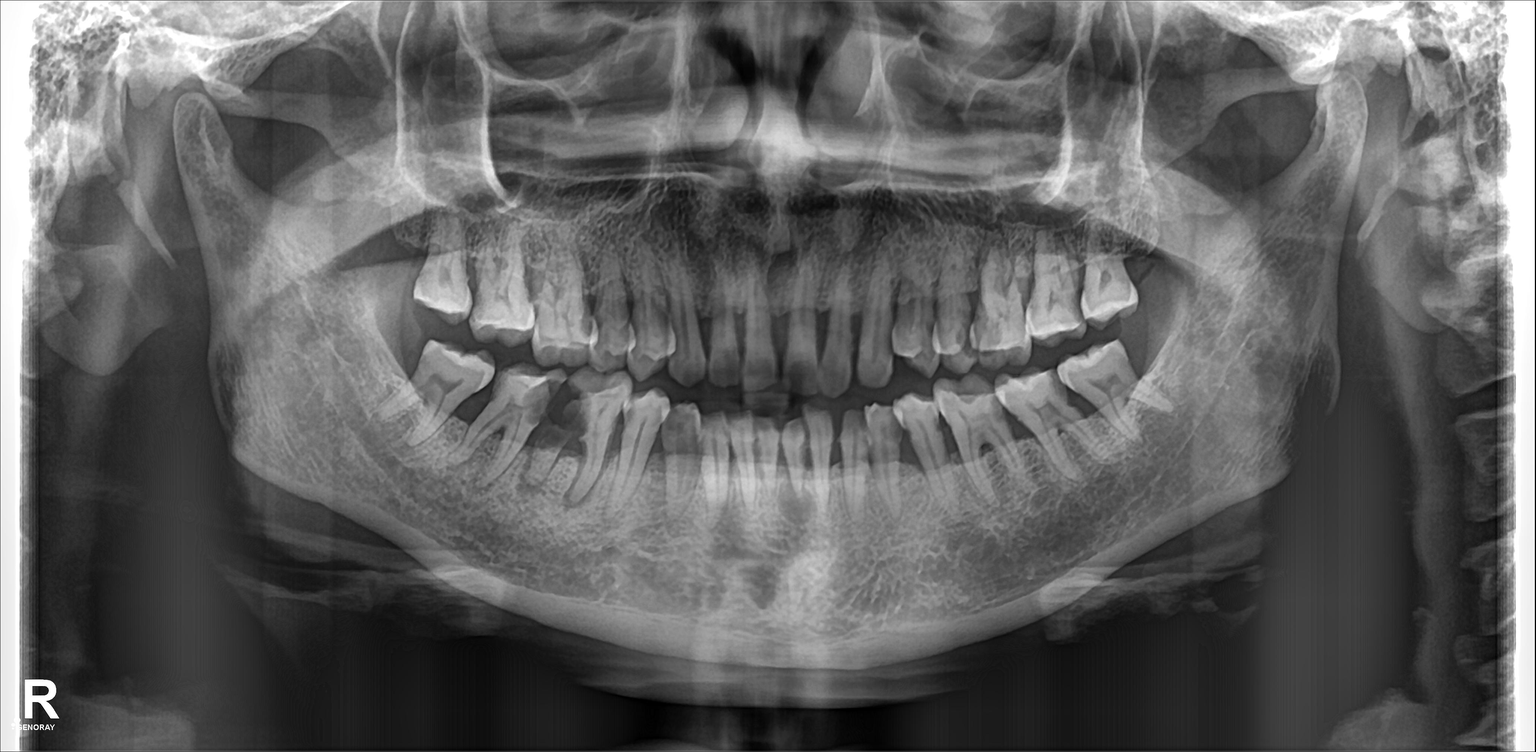Dental Caries: (529, 382, 587, 445)
Missing Tooth: (1130, 216, 1186, 294), (372, 214, 419, 297), (372, 322, 422, 395)
